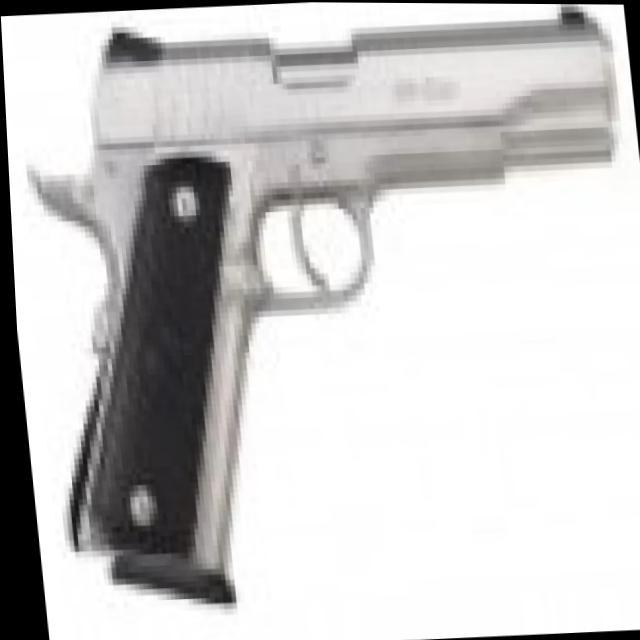weapon: (6, 0, 640, 615)
